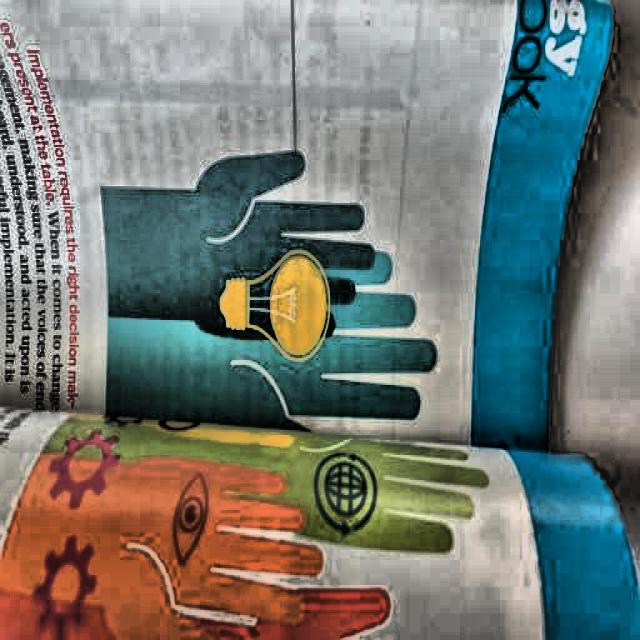paper: (3, 16, 638, 640)
